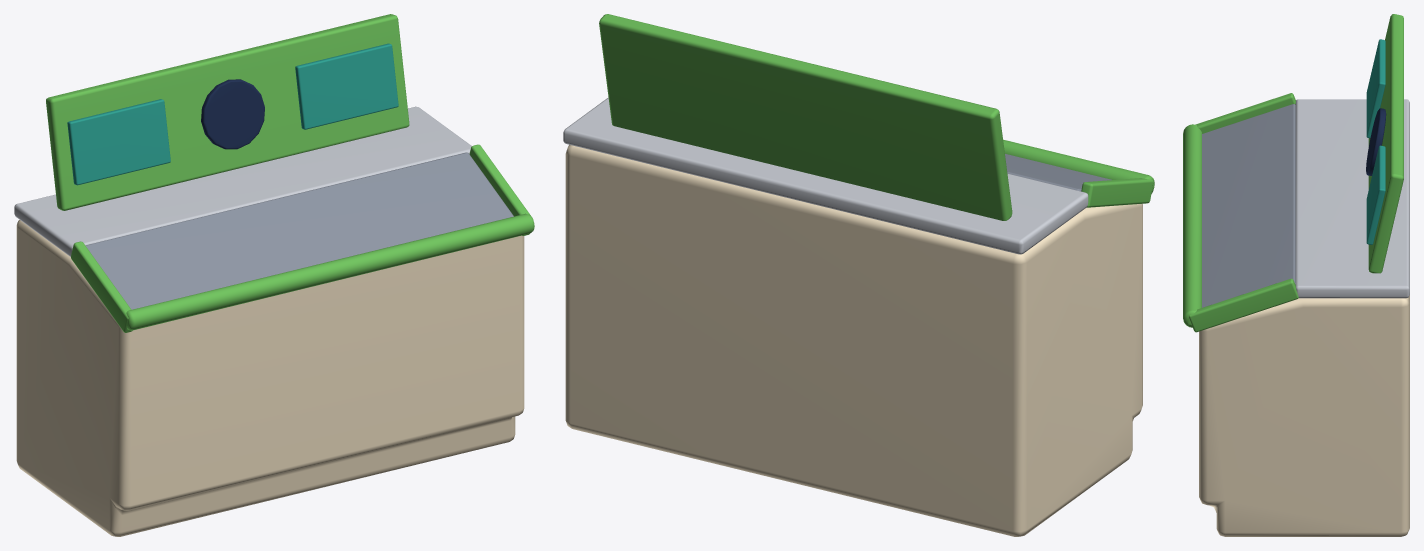
Rendered from Console_LifeSupport.glb.
The picture shows the model from 3 angles, left to right: view 1: azimuth 30°, elevation 25°; view 2: azimuth 150°, elevation 25°; view 3: azimuth 270°, elevation 25°; orthographic projection. The views are drawn at different scales.
Visible parts, largest first — view 1: Console_LifeSupport.Body, Console_LifeSupport.Panel, Console_LifeSupport.Board, Console_LifeSupport.Top, Console_LifeSupport.Rim, Console_LifeSupport.Screen_R, Console_LifeSupport.Screen_L, Console_LifeSupport.Icon; view 2: Console_LifeSupport.Body, Console_LifeSupport.Board, Console_LifeSupport.Top, Console_LifeSupport.Rim, Console_LifeSupport.Panel; view 3: Console_LifeSupport.Body, Console_LifeSupport.Top, Console_LifeSupport.Panel, Console_LifeSupport.Rim, Console_LifeSupport.Board, Console_LifeSupport.Screen_R, Console_LifeSupport.Screen_L, Console_LifeSupport.Icon.
Part boxes in pixels (<box>): Console_LifeSupport.Body: <box>16,220,524,536</box>; Console_LifeSupport.Panel: <box>85,152,513,309</box>; Console_LifeSupport.Board: <box>46,14,409,210</box>; Console_LifeSupport.Top: <box>14,106,471,256</box>; Console_LifeSupport.Rim: <box>71,144,534,332</box>; Console_LifeSupport.Screen_R: <box>295,43,398,129</box>; Console_LifeSupport.Screen_L: <box>67,99,170,185</box>; Console_LifeSupport.Icon: <box>201,79,264,149</box>; Console_LifeSupport.Body: <box>565,144,1142,536</box>; Console_LifeSupport.Board: <box>599,14,1012,220</box>; Console_LifeSupport.Top: <box>563,97,1088,254</box>; Console_LifeSupport.Rim: <box>1003,139,1154,207</box>; Console_LifeSupport.Panel: <box>1005,154,1111,191</box>; Console_LifeSupport.Body: <box>1199,295,1409,536</box>; Console_LifeSupport.Top: <box>1295,99,1409,298</box>; Console_LifeSupport.Panel: <box>1202,104,1295,307</box>; Console_LifeSupport.Rim: <box>1183,93,1298,332</box>; Console_LifeSupport.Board: <box>1368,14,1403,273</box>; Console_LifeSupport.Screen_R: <box>1366,145,1385,244</box>; Console_LifeSupport.Screen_L: <box>1366,39,1385,138</box>; Console_LifeSupport.Icon: <box>1366,108,1386,175</box>.
Size of the model in its own units: 1.29 by 1.11 by 0.6485.
Materials: 1 (1 with a texture image).
